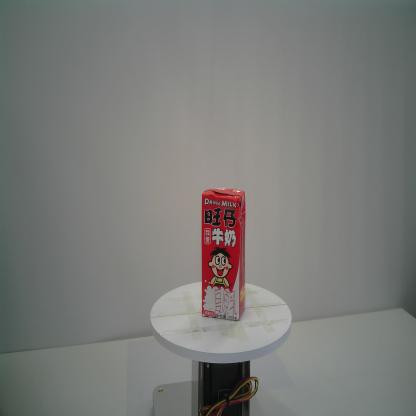Milk: (200, 184, 248, 326)
